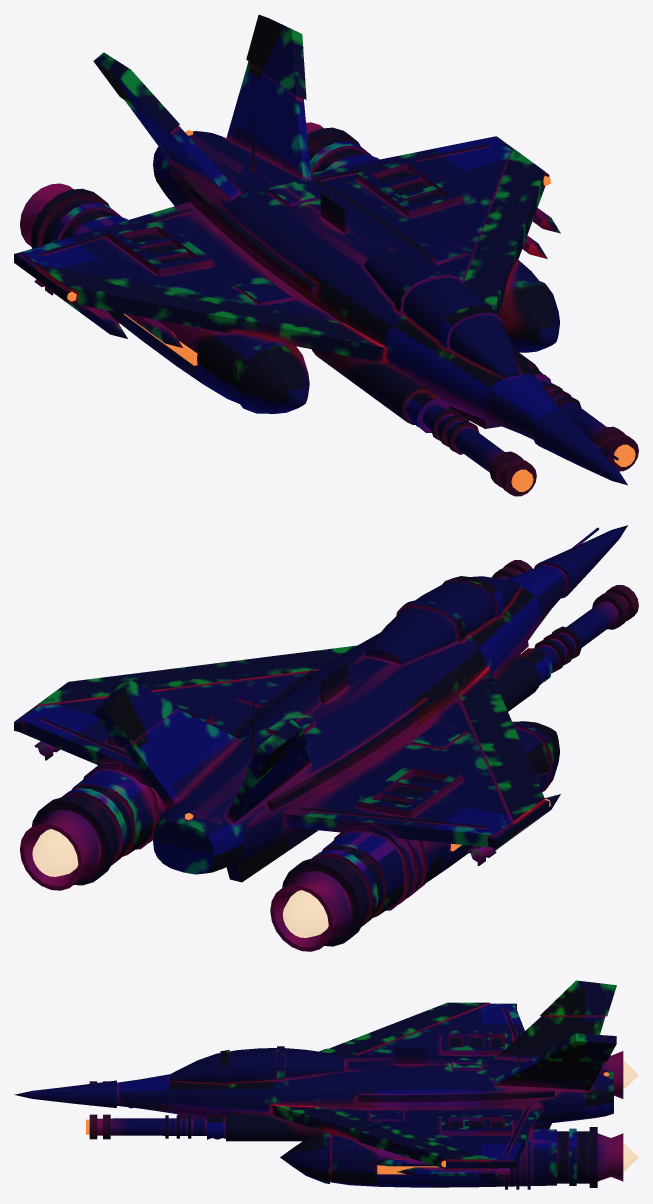
Rendered from void_interceptor_wreck.glb.
The picture shows the model from 3 angles, top to bottom: view 1: azimuth 30°, elevation 25°; view 2: azimuth 150°, elevation 25°; view 3: azimuth 270°, elevation 25°; orthographic projection. The views are drawn at different scales.
Visible parts, largest first — view 1: void_interceptor_wreck_00, void_interceptor_wreck_01, void_interceptor_wreck_08, void_interceptor_wreck_02, void_interceptor_wreck_03, void_interceptor_wreck_06, void_interceptor_wreck_07, void_interceptor_wreck_05, void_interceptor_wreck_04; view 2: void_interceptor_wreck_01, void_interceptor_wreck_00, void_interceptor_wreck_08, void_interceptor_wreck_04, void_interceptor_wreck_05, void_interceptor_wreck_02, void_interceptor_wreck_03, void_interceptor_wreck_06, void_interceptor_wreck_07; view 3: void_interceptor_wreck_02, void_interceptor_wreck_04, void_interceptor_wreck_06, void_interceptor_wreck_07, void_interceptor_wreck_08, void_interceptor_wreck_00, void_interceptor_wreck_01, void_interceptor_wreck_05, void_interceptor_wreck_03.
Part boxes in pixels (x1,y1,x2,y2): void_interceptor_wreck_00: (189,201,469,413); void_interceptor_wreck_01: (14,200,259,389); void_interceptor_wreck_08: (175,17,324,265); void_interceptor_wreck_02: (304,140,560,263); void_interceptor_wreck_03: (417,365,638,496); void_interceptor_wreck_06: (381,290,596,432); void_interceptor_wreck_07: (434,235,559,352); void_interceptor_wreck_05: (21,14,266,215); void_interceptor_wreck_04: (200,17,503,181); void_interceptor_wreck_01: (262,748,560,951); void_interceptor_wreck_00: (305,589,559,791); void_interceptor_wreck_08: (98,678,384,865); void_interceptor_wreck_04: (14,707,261,890); void_interceptor_wreck_05: (97,704,342,934); void_interceptor_wreck_02: (22,665,349,861); void_interceptor_wreck_03: (491,525,638,673); void_interceptor_wreck_06: (425,576,551,709); void_interceptor_wreck_07: (201,645,357,687); void_interceptor_wreck_02: (366,1048,521,1187); void_interceptor_wreck_04: (496,1041,638,1189); void_interceptor_wreck_06: (132,1049,289,1141); void_interceptor_wreck_07: (280,1100,401,1187); void_interceptor_wreck_08: (424,1017,613,1111); void_interceptor_wreck_00: (241,1028,409,1102); void_interceptor_wreck_01: (381,1002,624,1098); void_interceptor_wreck_05: (540,980,638,1096); void_interceptor_wreck_03: (14,1071,175,1139).
Size of the model in its own units: 3.97 by 1.62 by 6.61.
Materials: 14 (12 with a texture image).
